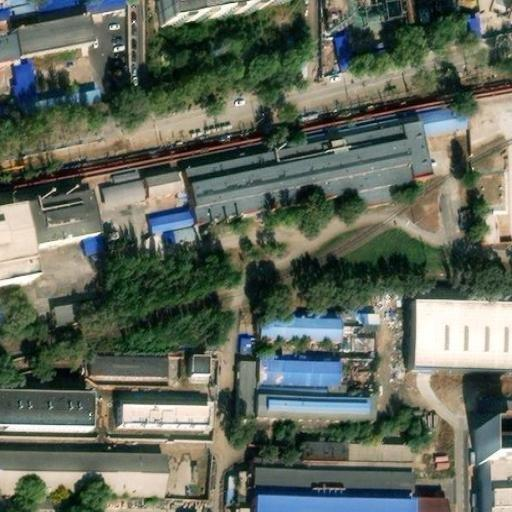building: (187, 128, 427, 229), (404, 303, 512, 376), (0, 443, 169, 480), (249, 473, 409, 507), (22, 189, 100, 247), (0, 386, 96, 430), (467, 424, 512, 512), (301, 443, 410, 478), (249, 400, 373, 430), (11, 19, 95, 60), (253, 311, 336, 347), (463, 90, 512, 147), (116, 404, 204, 433), (251, 363, 336, 392), (114, 353, 204, 380), (18, 85, 100, 114), (142, 168, 190, 207), (339, 309, 378, 351), (248, 502, 408, 512), (10, 56, 40, 101), (150, 205, 194, 233), (329, 27, 357, 70), (231, 363, 251, 420), (50, 299, 83, 325), (160, 225, 197, 246), (231, 472, 250, 512), (408, 499, 449, 512), (463, 10, 483, 36), (354, 0, 378, 21)
